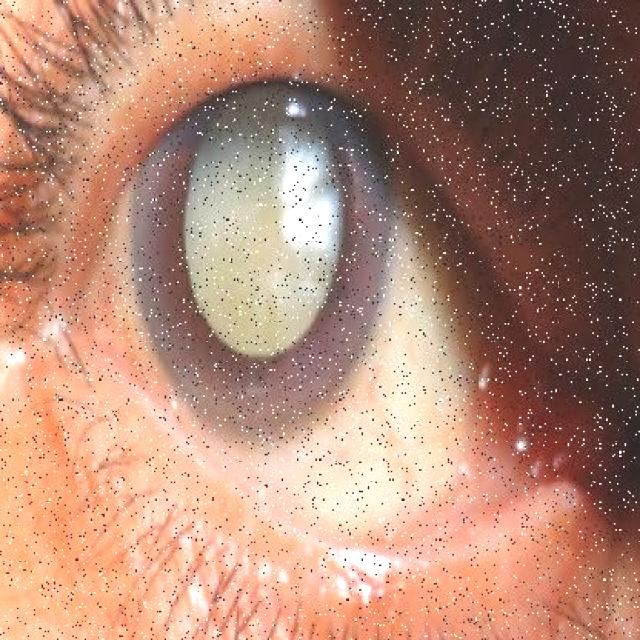Cataract: (72, 49, 549, 578)
